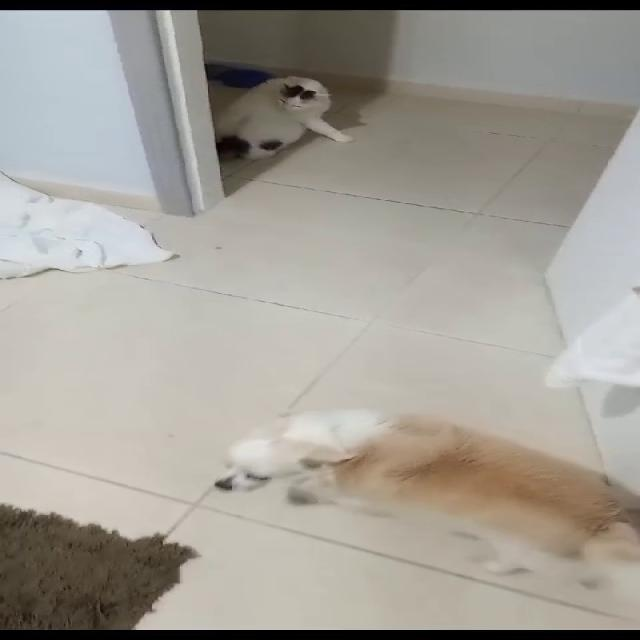Simba: (207, 66, 373, 194)
Theo: (181, 398, 639, 604)
